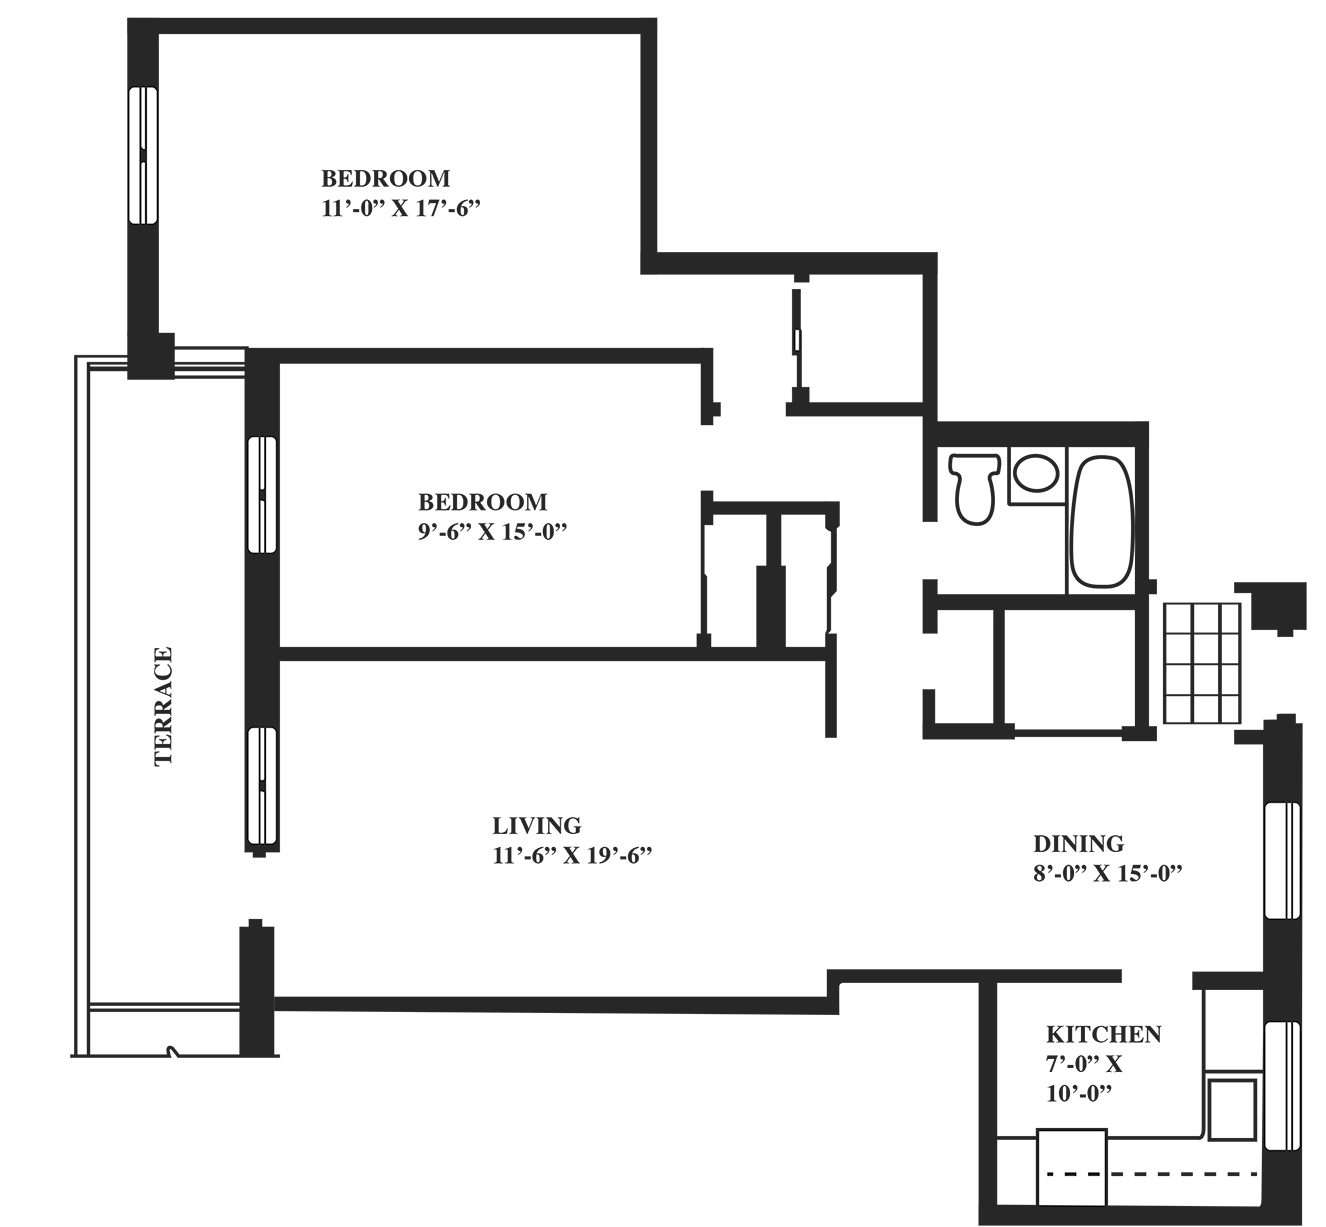window: (1262, 806, 1305, 923), (1265, 1019, 1303, 1148), (241, 436, 280, 553), (129, 82, 158, 223), (249, 731, 275, 840)
